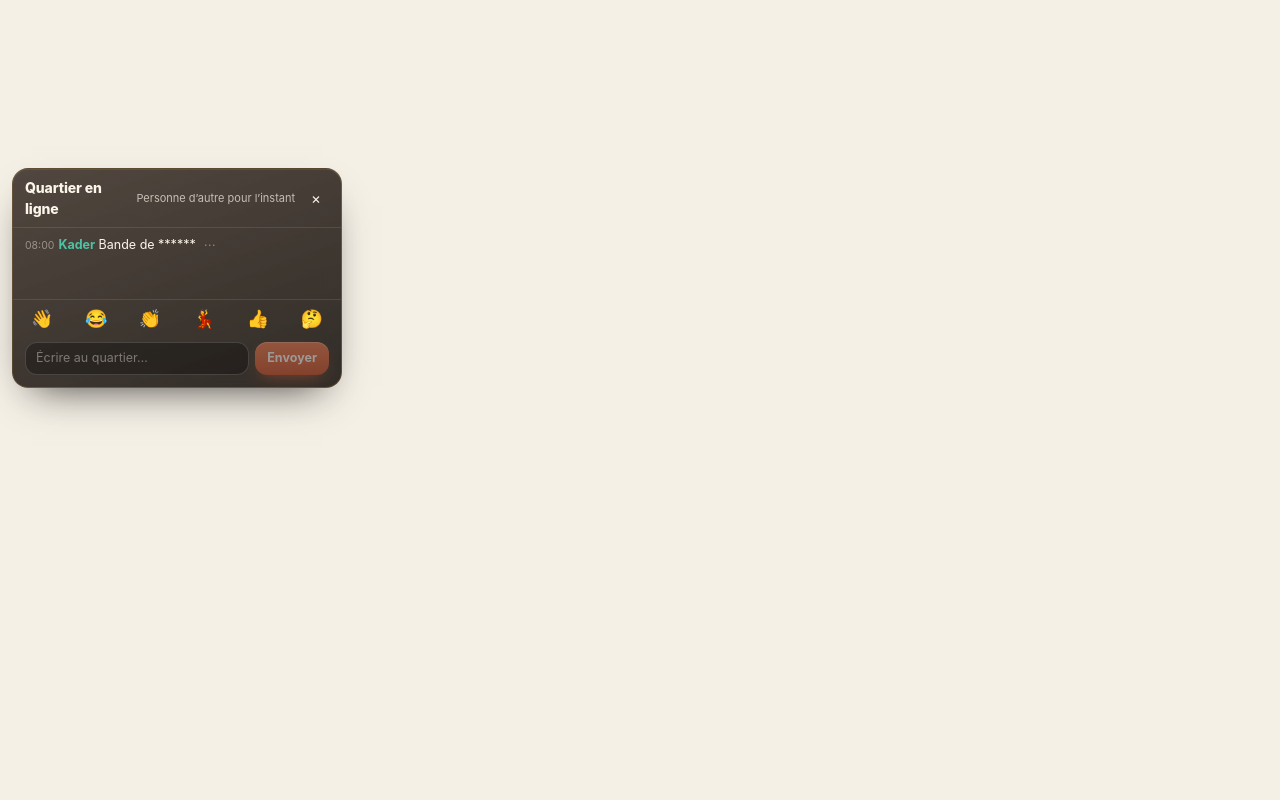
Test: signaler un message et masquer un joueur › connecté, envoie le signalement au serveur et prévient quand des mots ont été masqués
Click the button named "Options du message de Kader".
click(210, 245)  # box 200,239 -> 220,251
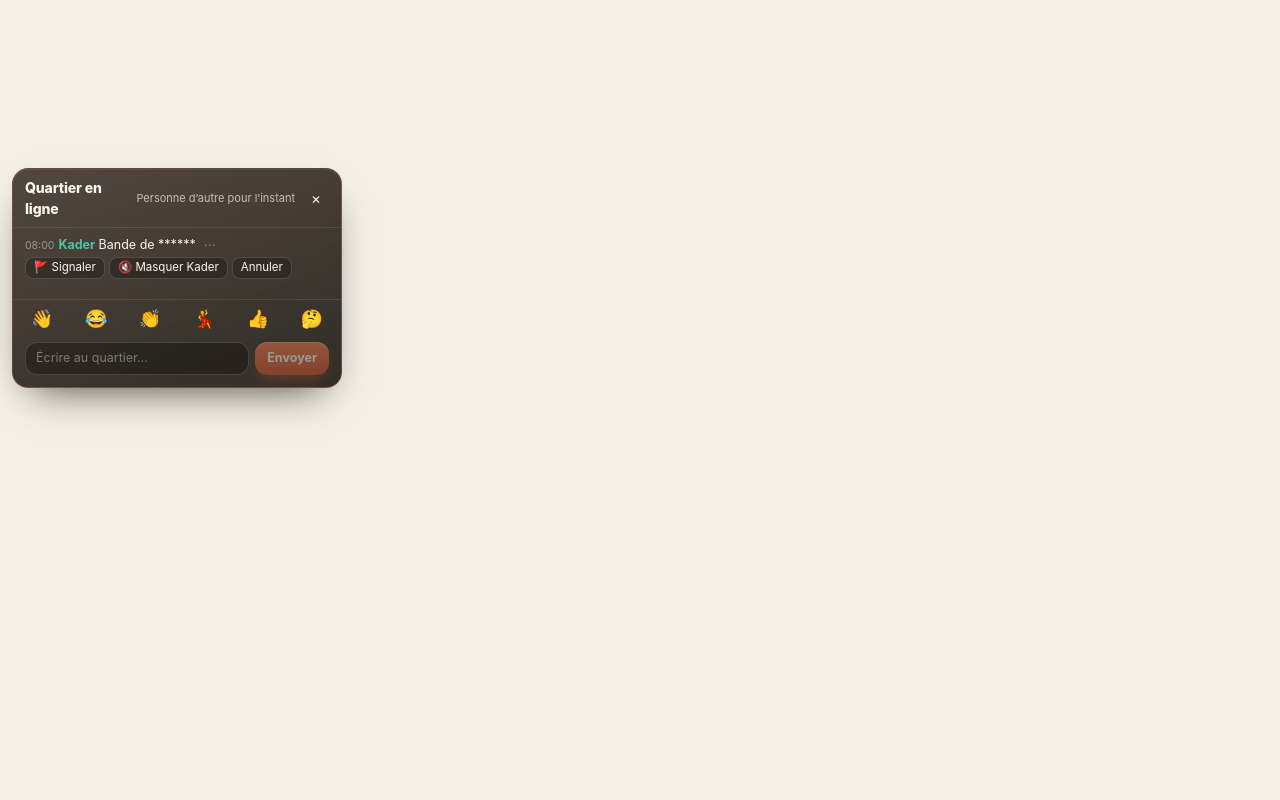
Click the button "🚩 Signaler".
click(65, 268)  # box 25,257 -> 105,279
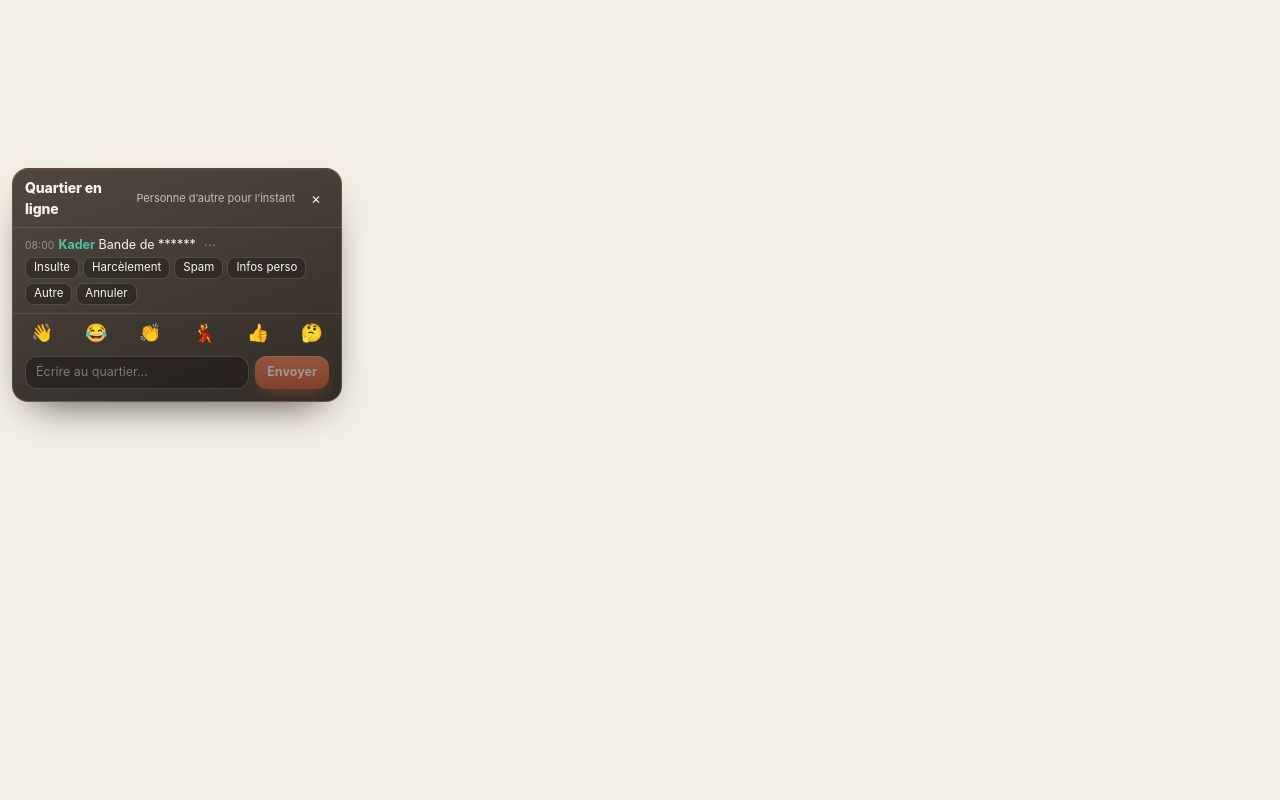
Click the button "Harcèlement".
click(127, 268)  # box 83,257 -> 170,279
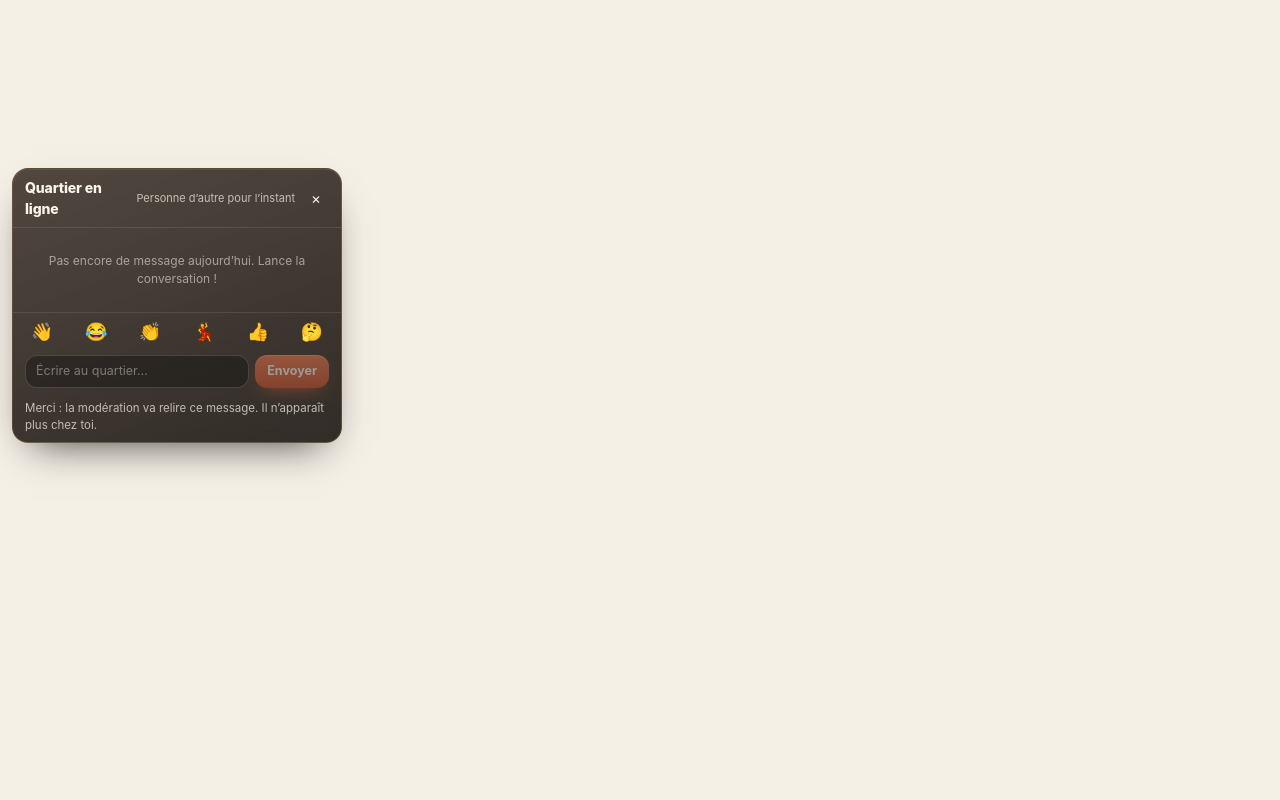
Now the message shows "la modération va relire ce message", box 25,401 -> 324,432
Now the text "Bande de ******" is gone
Type "Quel connard" into the field named "Message au quartier".
click(137, 371); type("Quel connard")  # box 25,355 -> 249,388
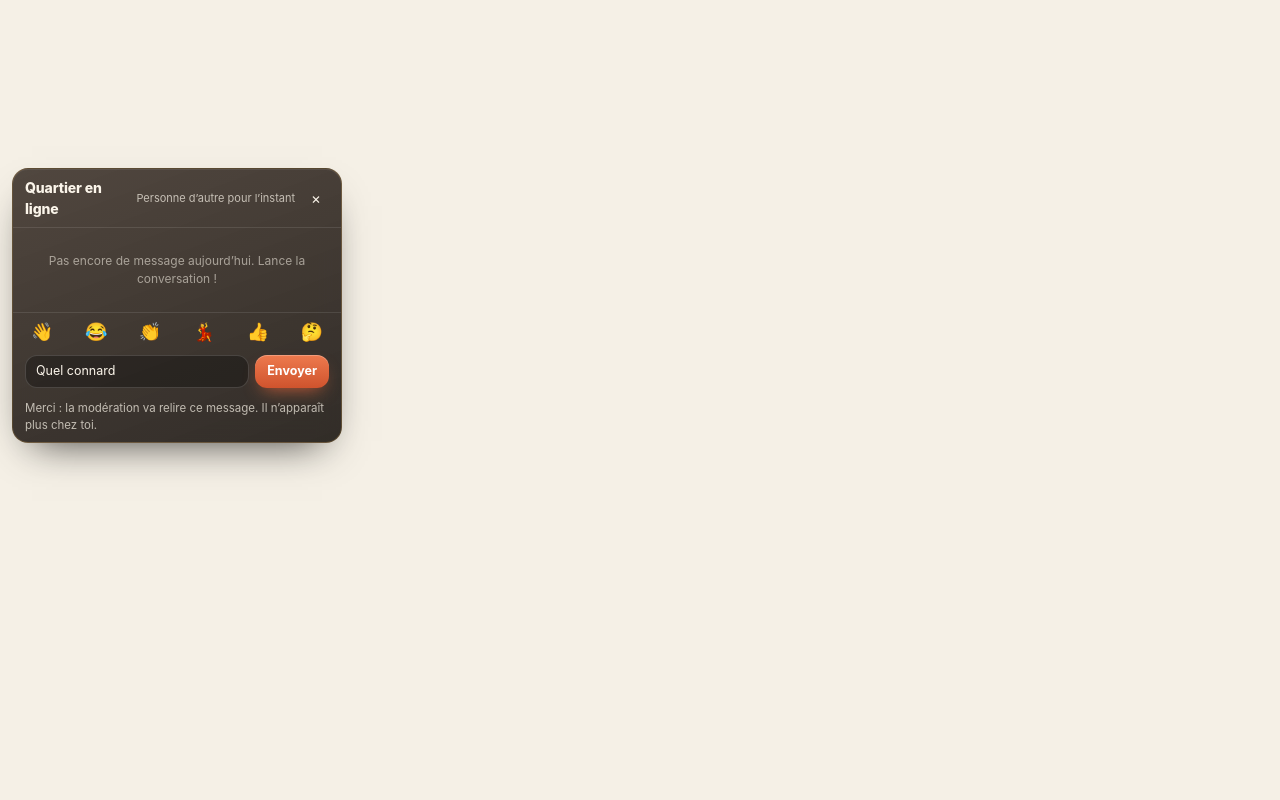
Click the button "Envoyer".
click(292, 371)  # box 255,355 -> 329,388
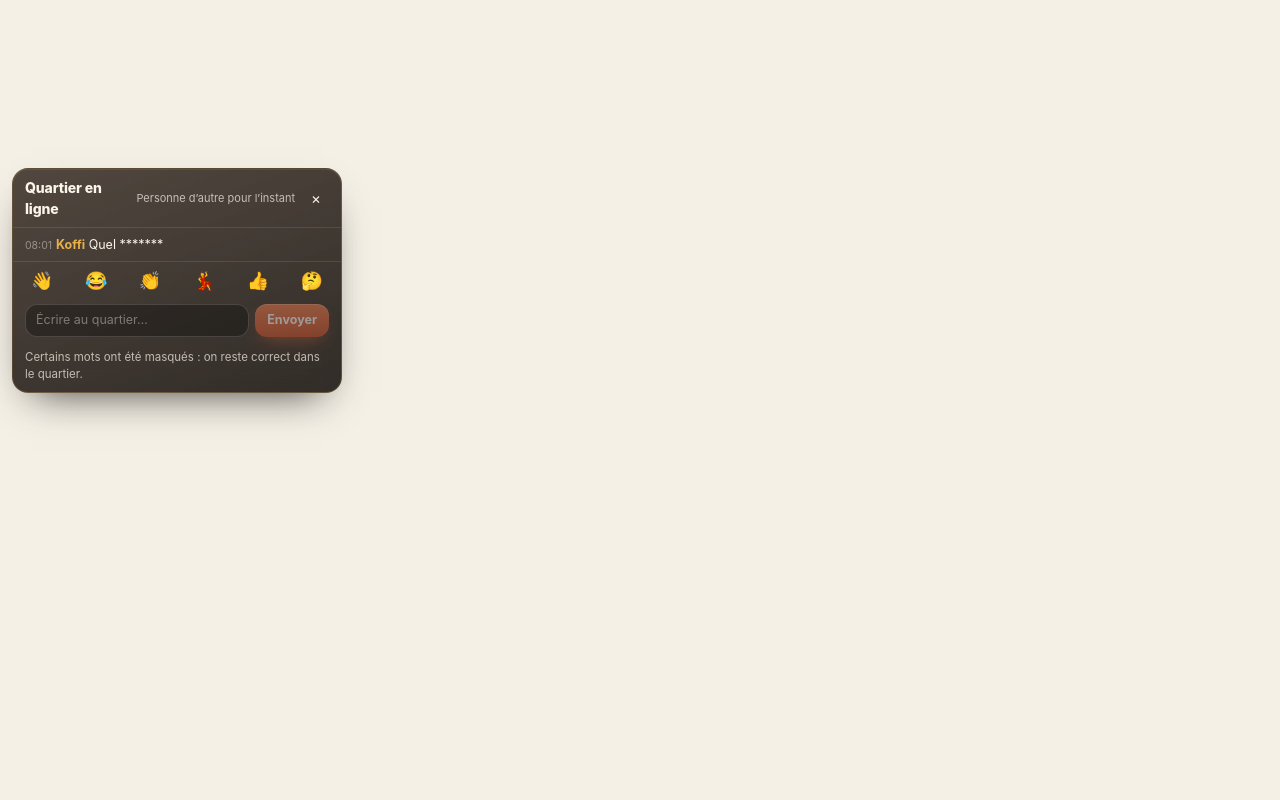
Now the text "Quel *******" is shown, box 89,237 -> 163,252
Now the message shows "Certains mots ont été masqués", box 25,350 -> 320,382
